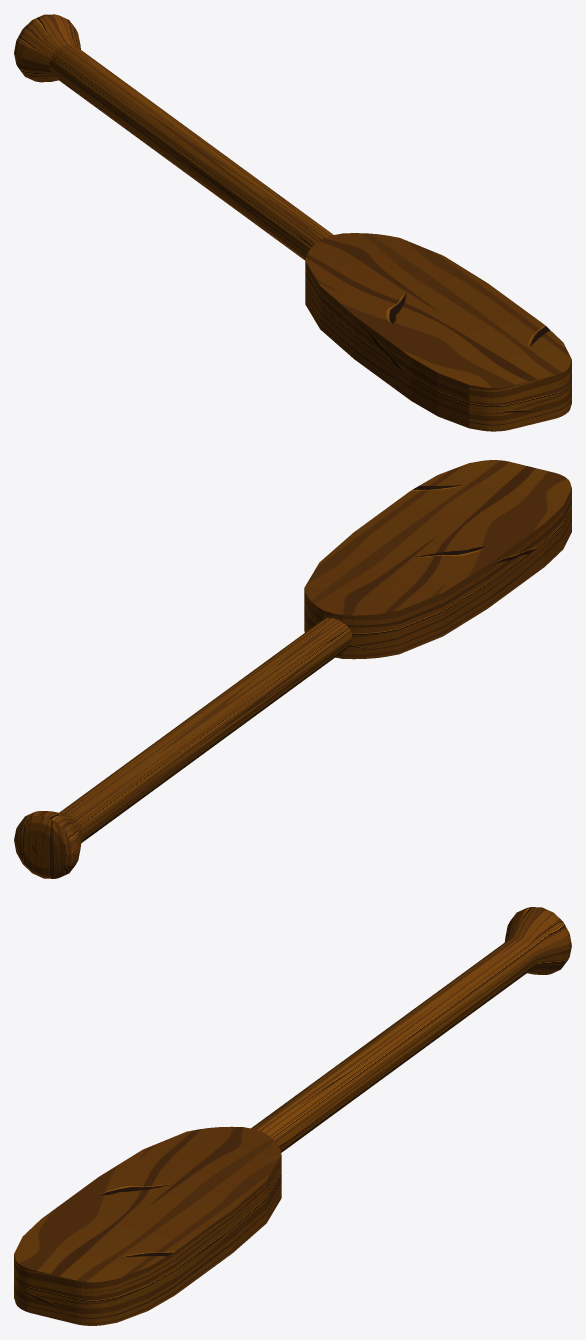
File: Rame.fbx
3 renders of one model, top to bottom at view 1: azimuth 30°, elevation 25°; view 2: azimuth 150°, elevation 25°; view 3: azimuth 330°, elevation 25°, orthographic.
Parts seen in each view (by area): view 1: Cylindre; view 2: Cylindre; view 3: Cylindre.
Boxes of the visible parts, <box> form: Cylindre: <box>14,14,571,431</box>; Cylindre: <box>14,460,571,878</box>; Cylindre: <box>14,907,571,1325</box>.
Size of the model in its own units: 75.55 by 35.27 by 481.
